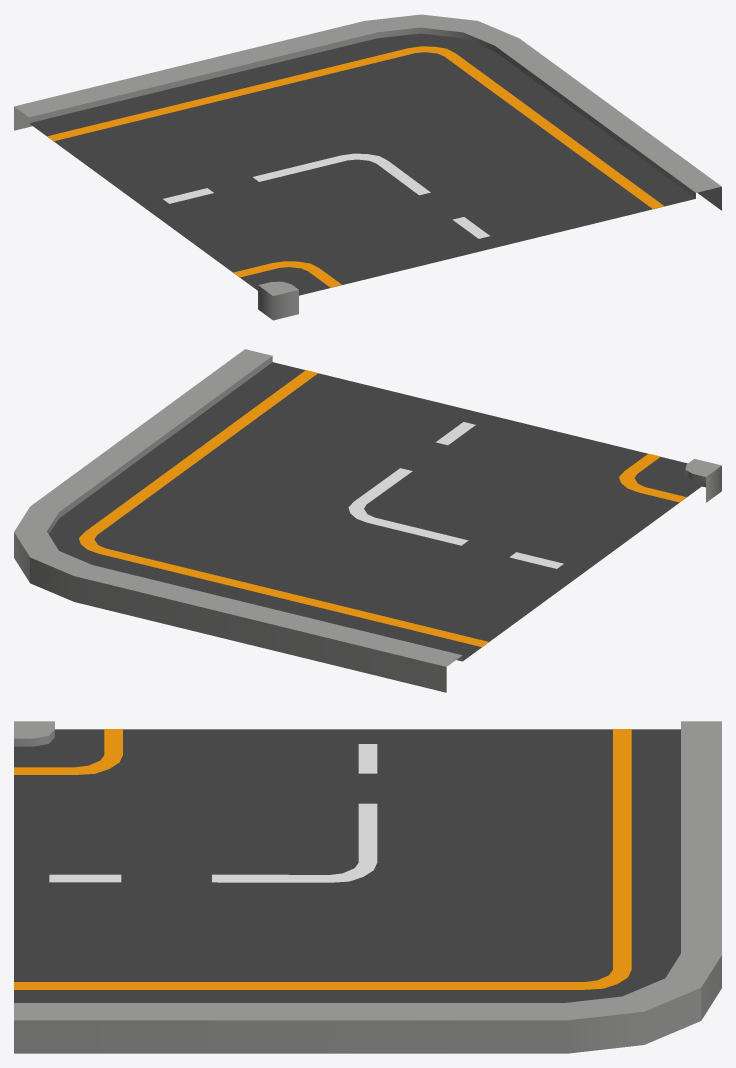
The model's file is Road_A_9.fbx.
The picture shows the model from 3 angles, top to bottom: view 1: azimuth 30°, elevation 25°; view 2: azimuth 150°, elevation 25°; view 3: azimuth 270°, elevation 25°; orthographic projection. The views are drawn at different scales.
Parts seen in each view (by area): view 1: Road_A_9; view 2: Road_A_9; view 3: Road_A_9.
Boxes of the visible parts, box(x1,y1,x2,y2) form: Road_A_9: box(14, 14, 721, 320); Road_A_9: box(14, 349, 721, 692); Road_A_9: box(14, 721, 721, 1053).
Size of the model in its own units: 800 by 41.48 by 800.
